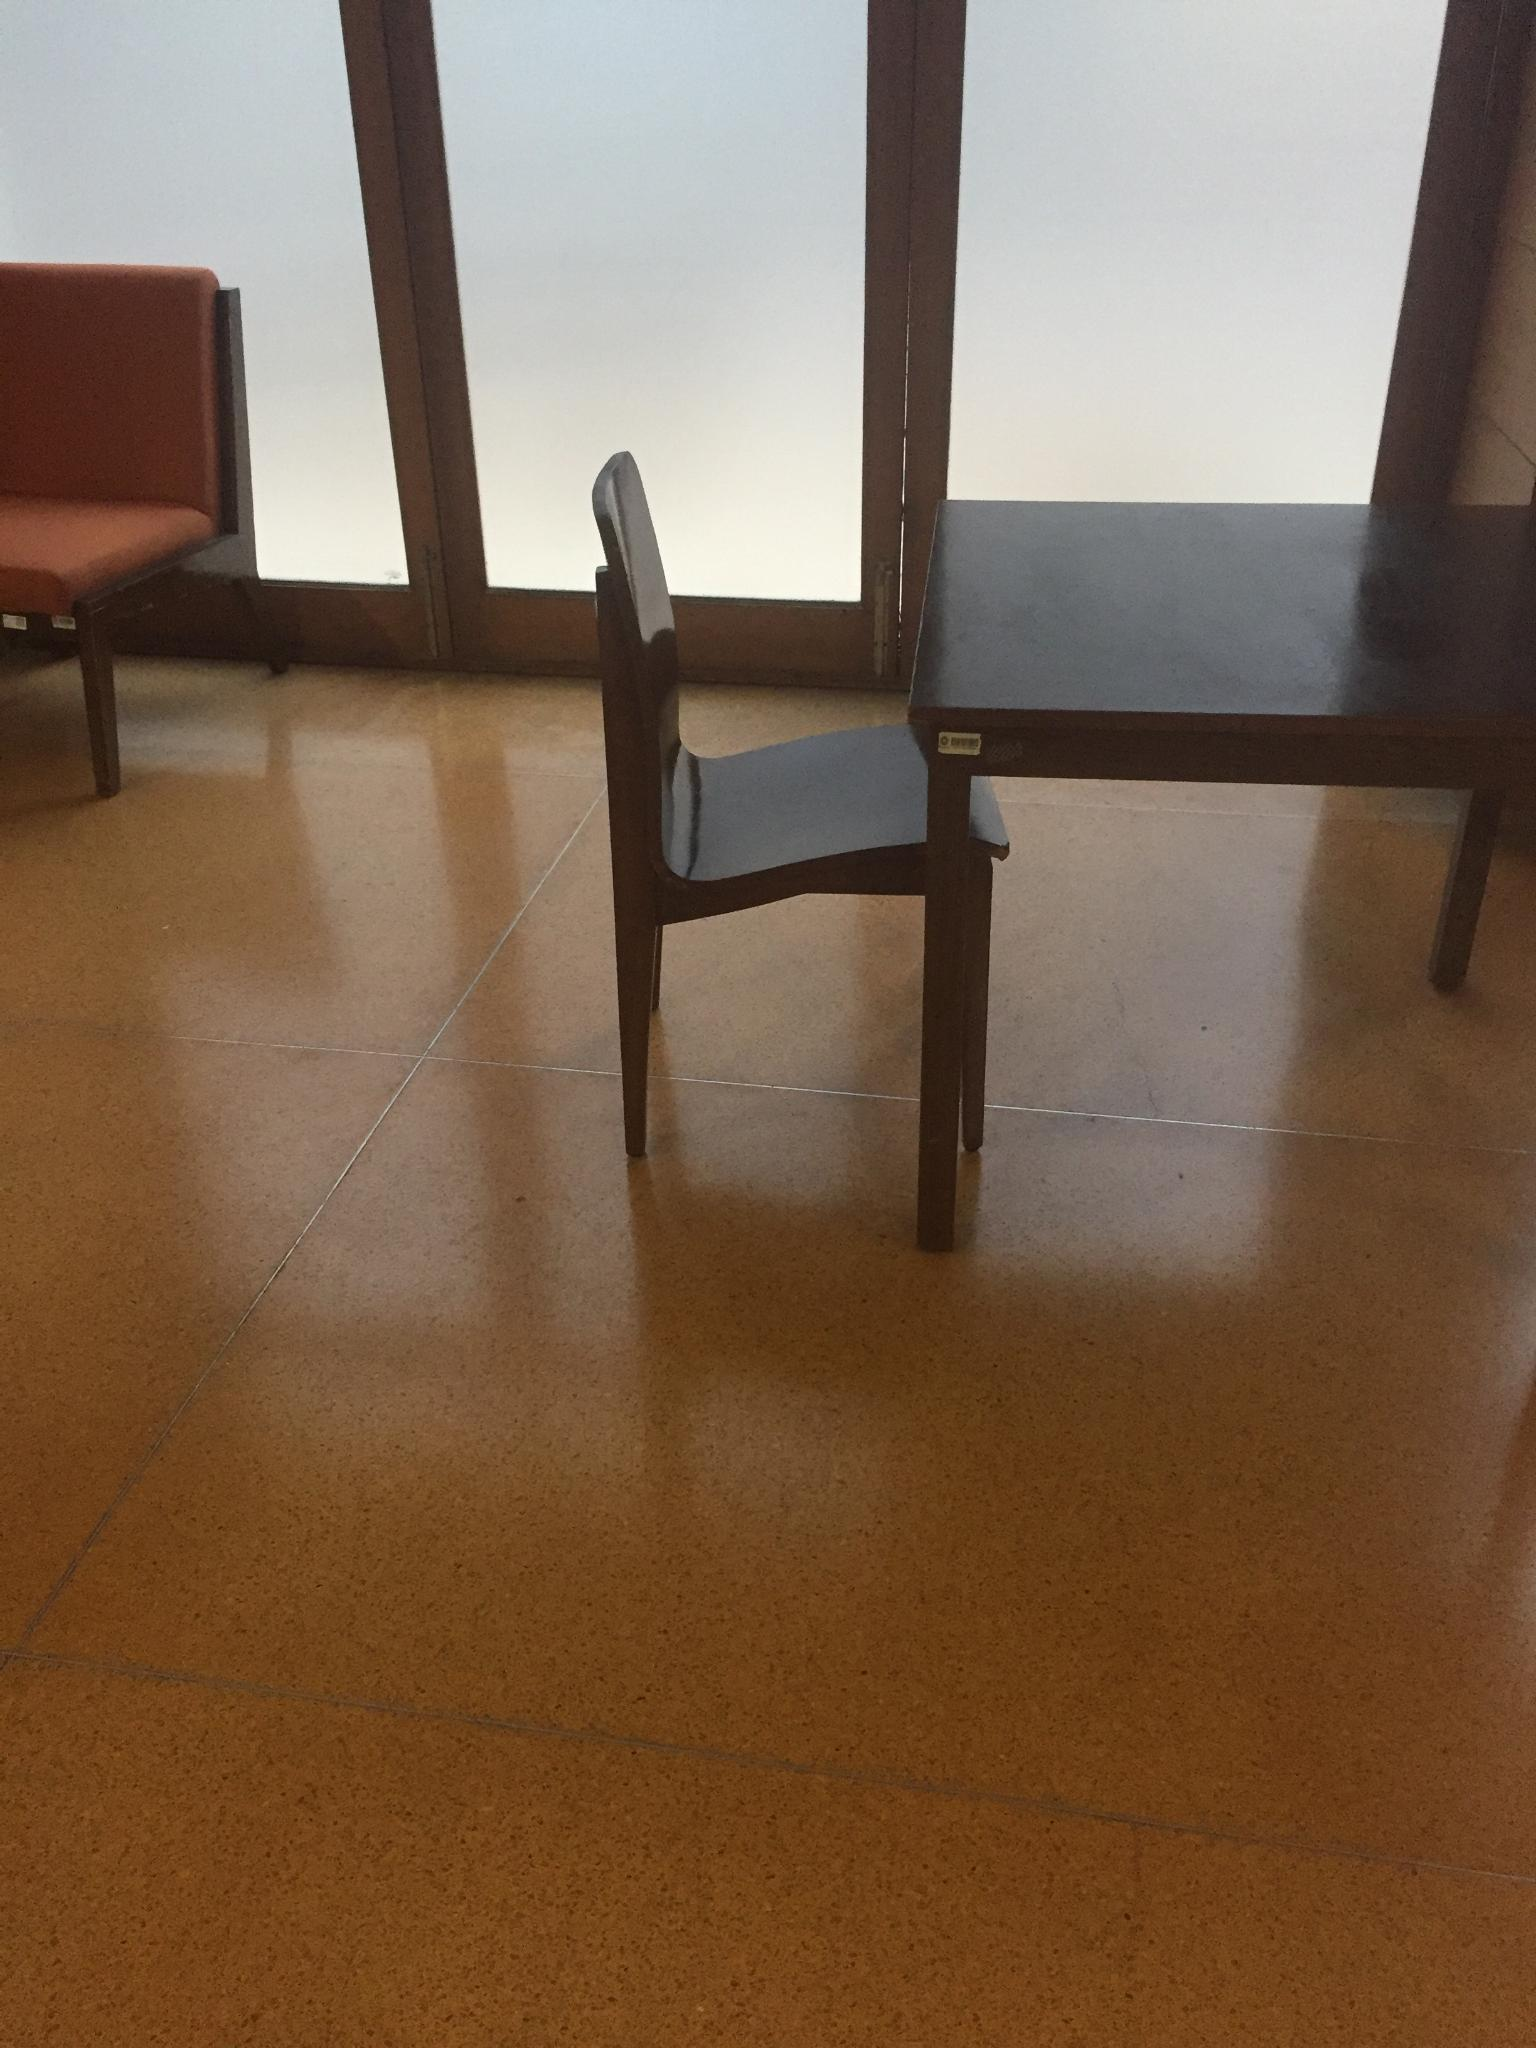chair: (589, 448, 1010, 1250), (0, 261, 287, 798)
